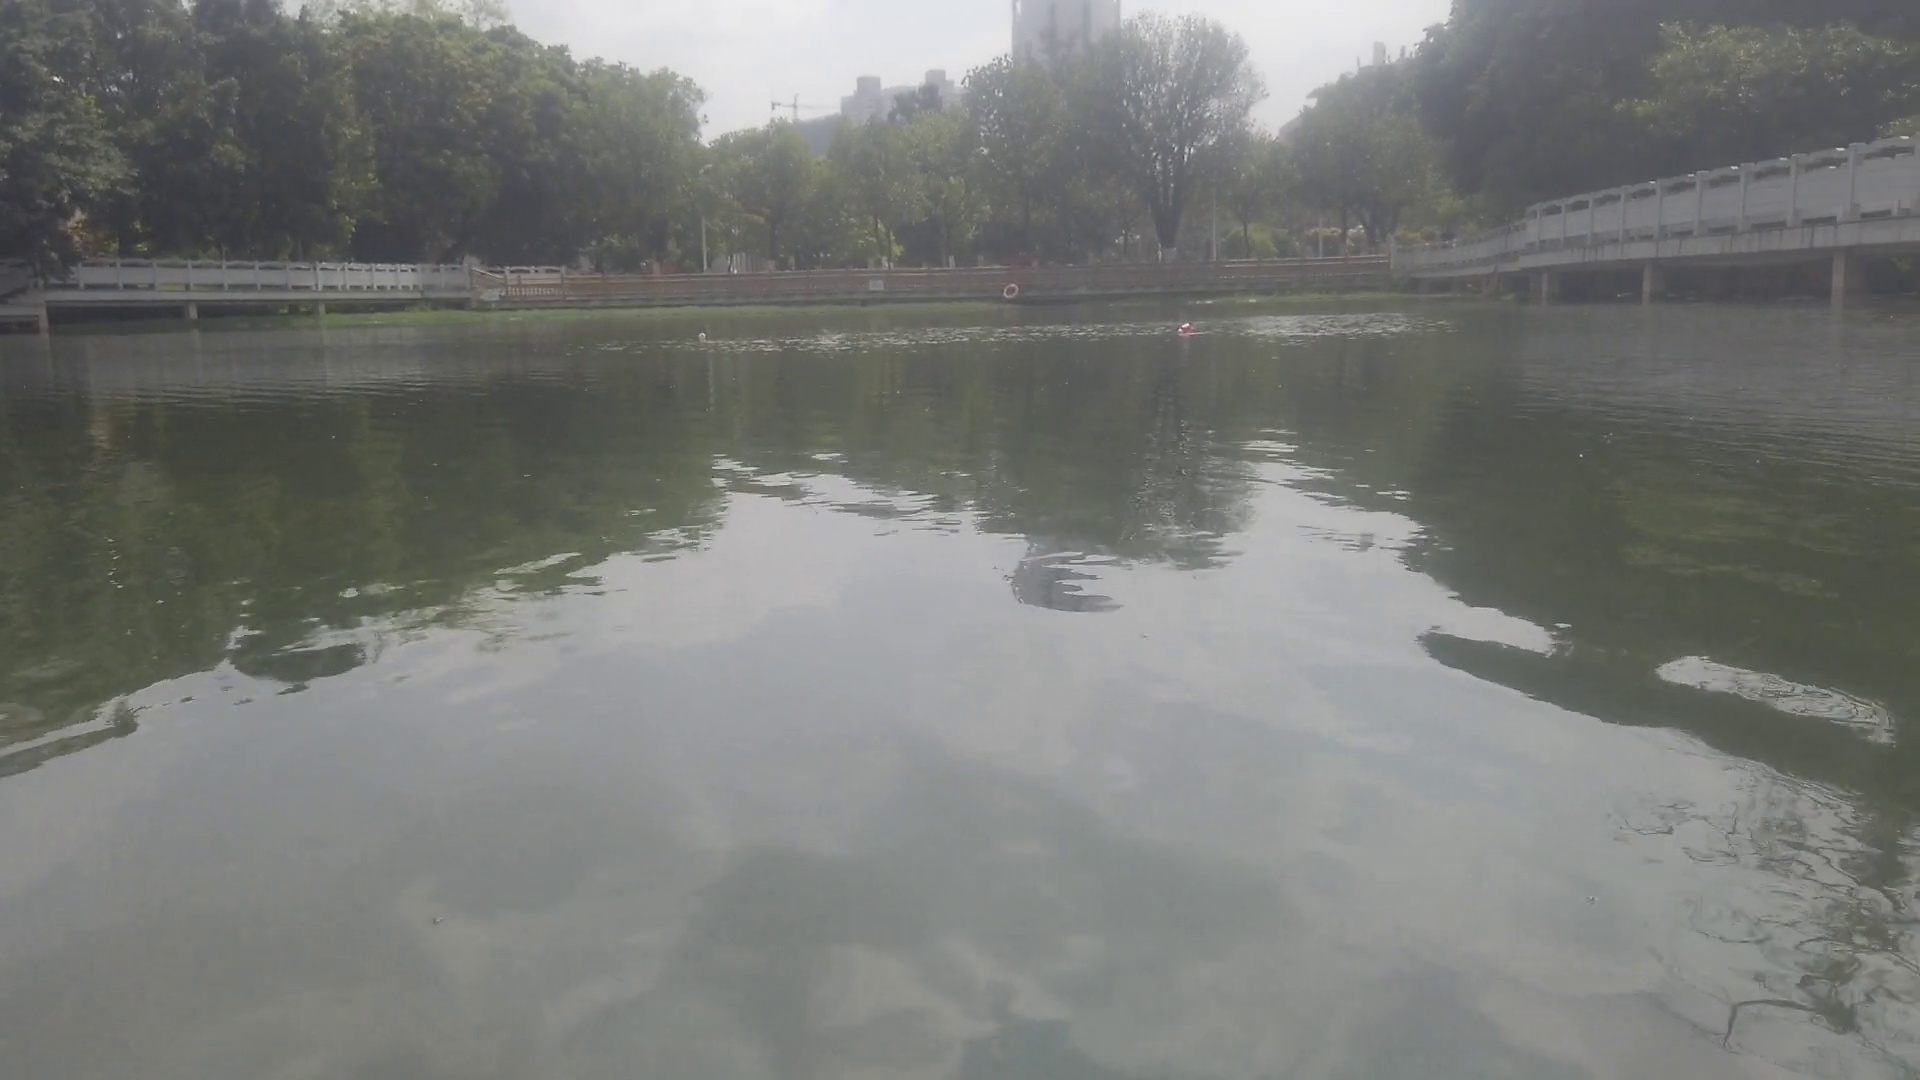bottle: (1174, 315, 1193, 338), (696, 328, 709, 347)
